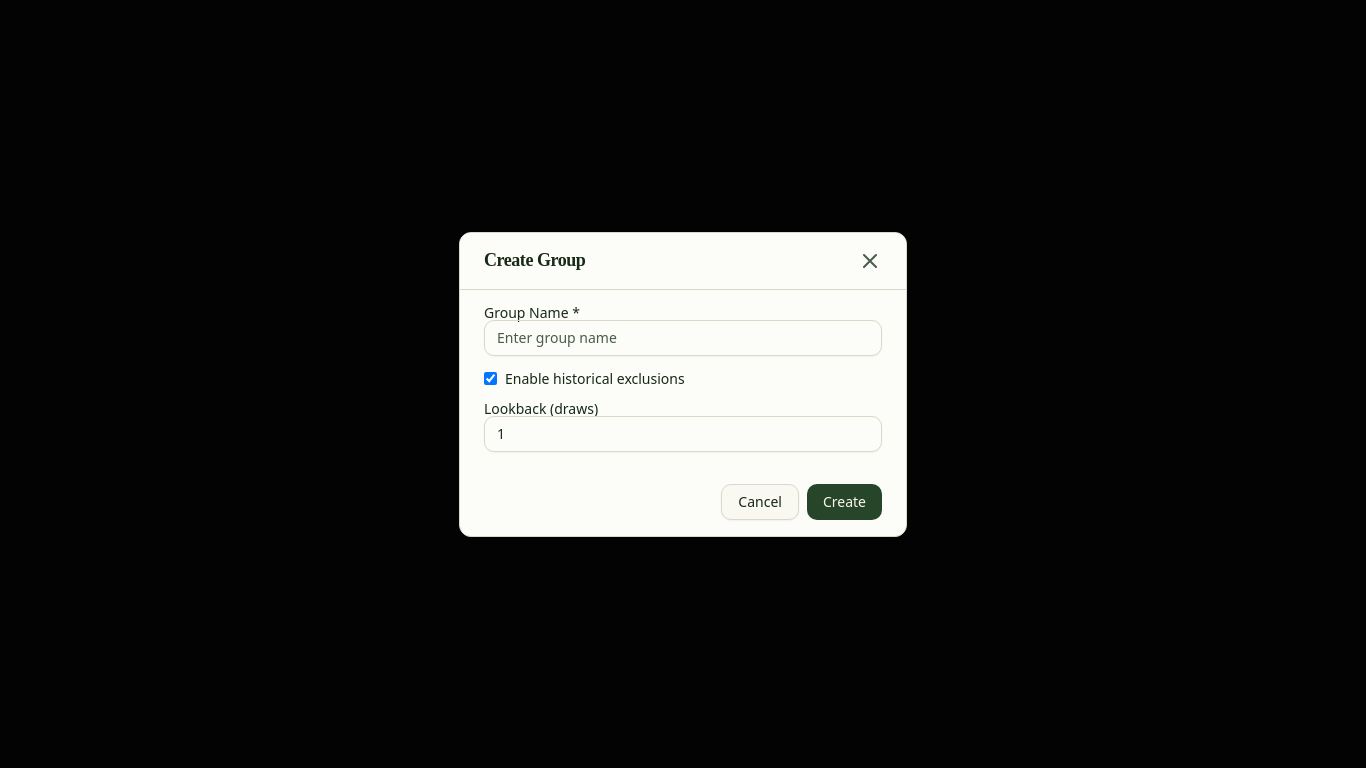
CreateGroupDialog › hides lookback field when historical exclusions disabled
Click the checkbox labelled "Enable historical exclusions" at (490, 378), box [484,372,497,385]
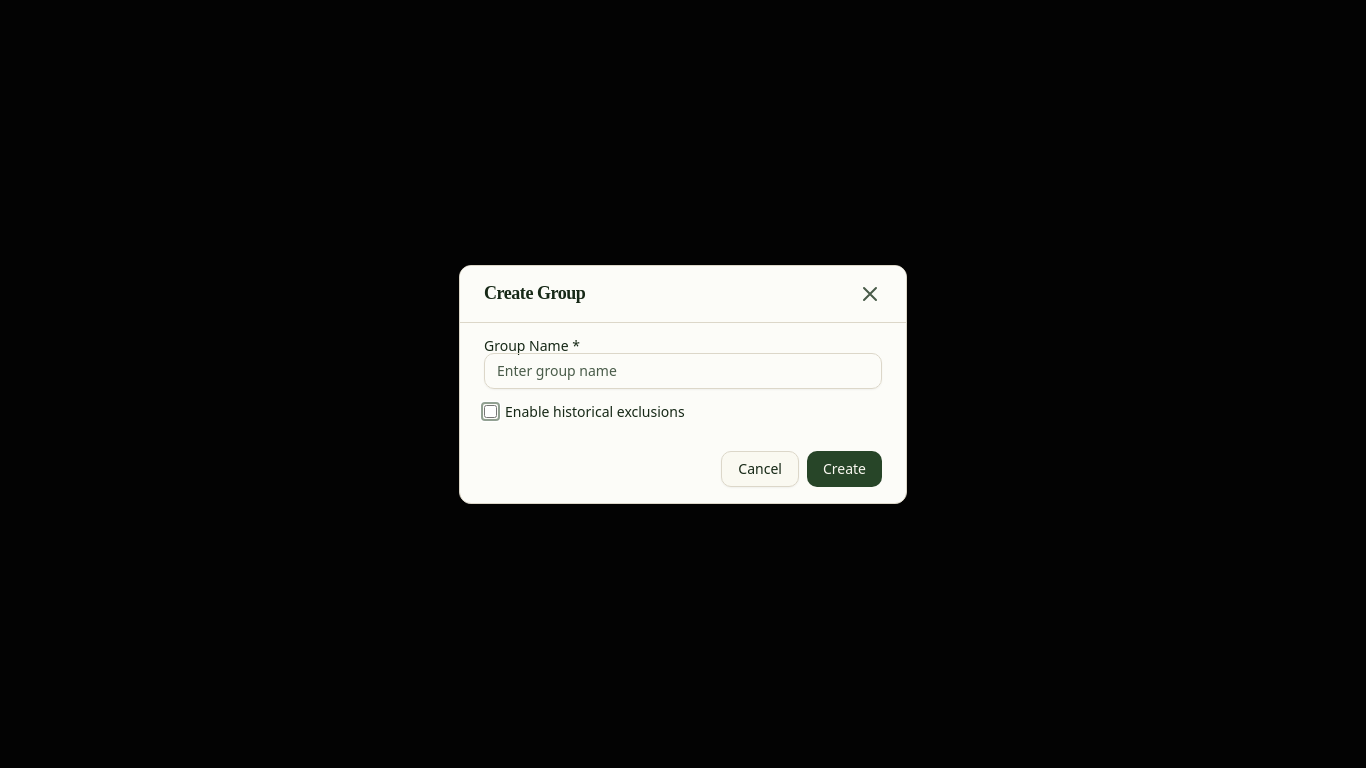
Expected: the label labelled "Lookback (draws)" is gone
